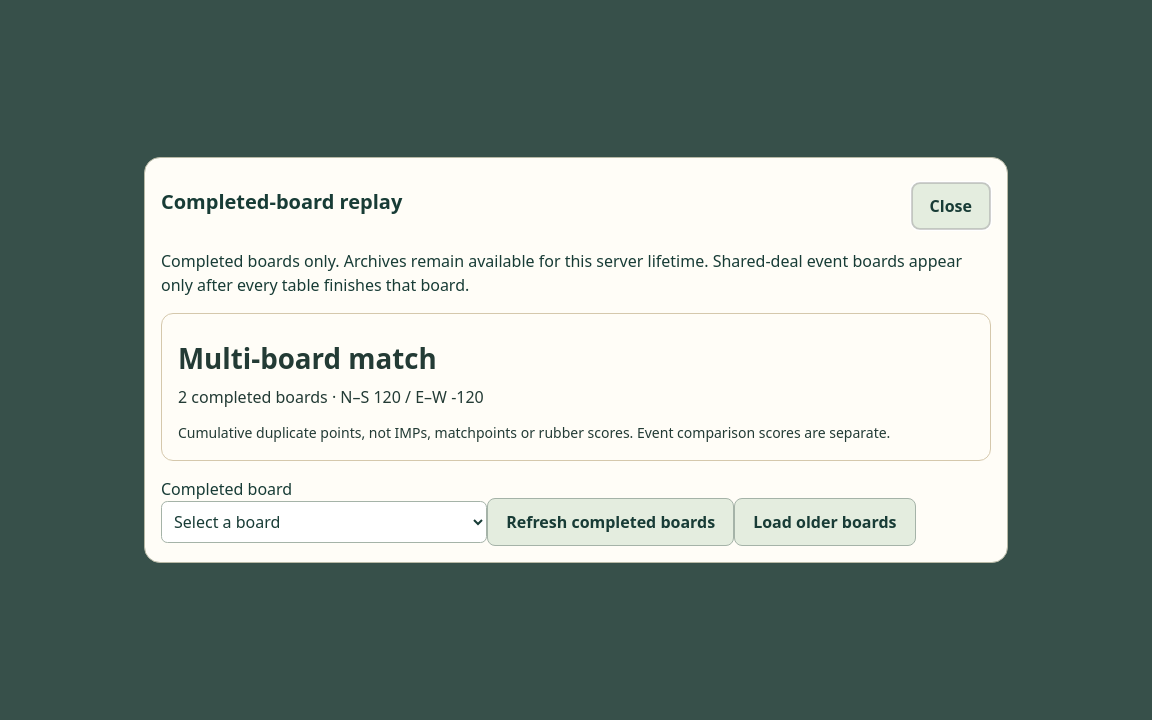
match scoreboard and paged results › appends older summaries once and preserves current selection across pagination
Click the button "Load older boards": (825, 522) [734,498,916,546]
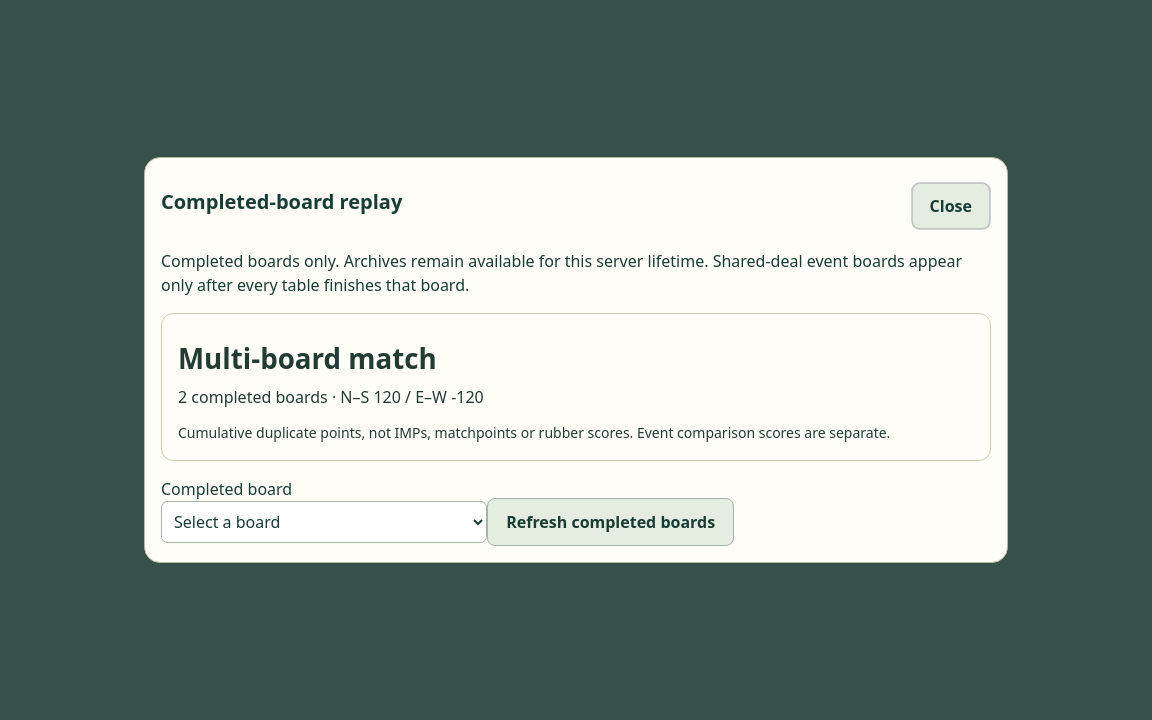
Result: the button "Load older boards" is gone
